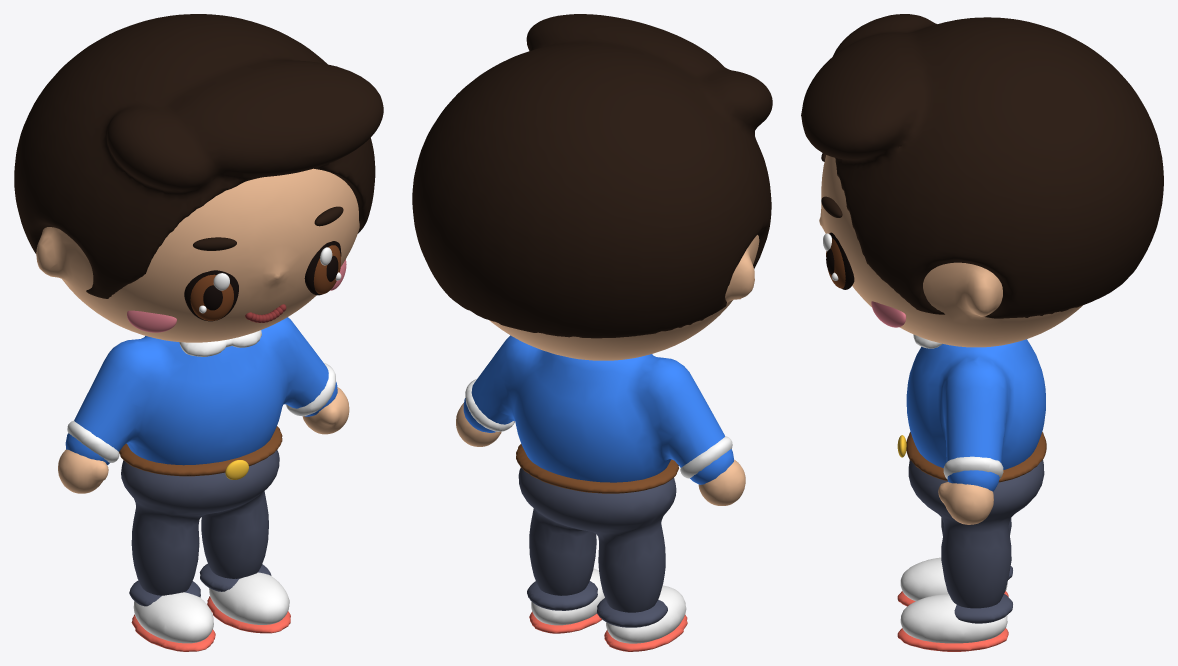
File: dad.glb
3 renders of one model, left to right at view 1: azimuth 30°, elevation 25°; view 2: azimuth 150°, elevation 25°; view 3: azimuth 270°, elevation 25°, orthographic.
Visible parts, largest first — view 1: dad_hair, dad_head, dad_shirt, dad_pants, dad_shoes, dad_hands, dad_belt, dad_soles, dad_iris, dad_cuffs, dad_hems, dad_eyes (+4 smaller); view 2: dad_hair, dad_shirt, dad_pants, dad_head, dad_shoes, dad_hems, dad_belt, dad_hands, dad_soles, dad_cuffs; view 3: dad_hair, dad_shirt, dad_head, dad_pants, dad_shoes, dad_hands, dad_belt, dad_soles, dad_hems, dad_cuffs, dad_blush.
Boxes of the visible parts, bbox=[...] form: dad_hair: bbox=[14, 14, 383, 298]; dad_head: bbox=[36, 168, 359, 342]; dad_shirt: bbox=[65, 317, 337, 465]; dad_pants: bbox=[121, 450, 279, 595]; dad_shoes: bbox=[133, 572, 289, 643]; dad_hands: bbox=[58, 387, 349, 493]; dad_belt: bbox=[119, 426, 282, 476]; dad_soles: bbox=[131, 596, 290, 651]; dad_iris: bbox=[190, 245, 340, 320]; dad_cuffs: bbox=[67, 363, 335, 462]; dad_hems: bbox=[129, 563, 271, 606]; dad_eyes: bbox=[184, 241, 341, 321]; dad_hair: bbox=[412, 14, 772, 338]; dad_shirt: bbox=[463, 335, 733, 484]; dad_pants: bbox=[518, 467, 676, 612]; dad_head: bbox=[489, 235, 759, 360]; dad_shoes: bbox=[531, 568, 686, 643]; dad_hems: bbox=[527, 581, 667, 627]; dad_belt: bbox=[516, 444, 678, 493]; dad_hands: bbox=[456, 403, 745, 505]; dad_soles: bbox=[529, 611, 687, 651]; dad_cuffs: bbox=[465, 379, 732, 478]; dad_hair: bbox=[801, 14, 1163, 318]; dad_shirt: bbox=[906, 339, 1045, 491]; dad_head: bbox=[819, 155, 1082, 347]; dad_pants: bbox=[908, 460, 1044, 608]; dad_shoes: bbox=[900, 557, 1007, 643]; dad_hands: bbox=[938, 482, 993, 524]; dad_belt: bbox=[906, 432, 1046, 482]; dad_soles: bbox=[897, 591, 1008, 651]; dad_hems: bbox=[954, 566, 1012, 623]; dad_cuffs: bbox=[943, 456, 1003, 479]; dad_blush: bbox=[871, 301, 906, 327].
Bounding box in the file's own units: 0.6595 × 1.15 × 0.6456.
